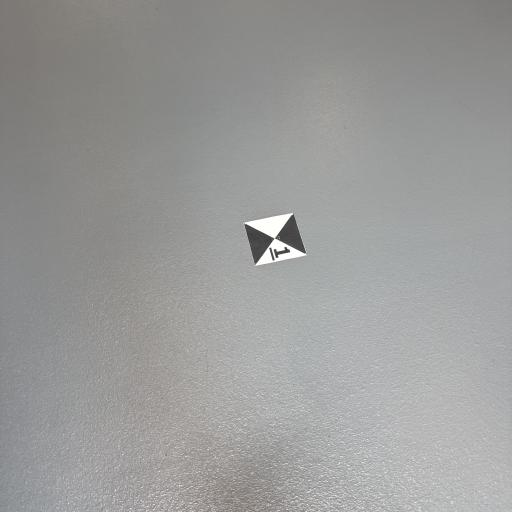target1: (240, 212, 310, 265)
